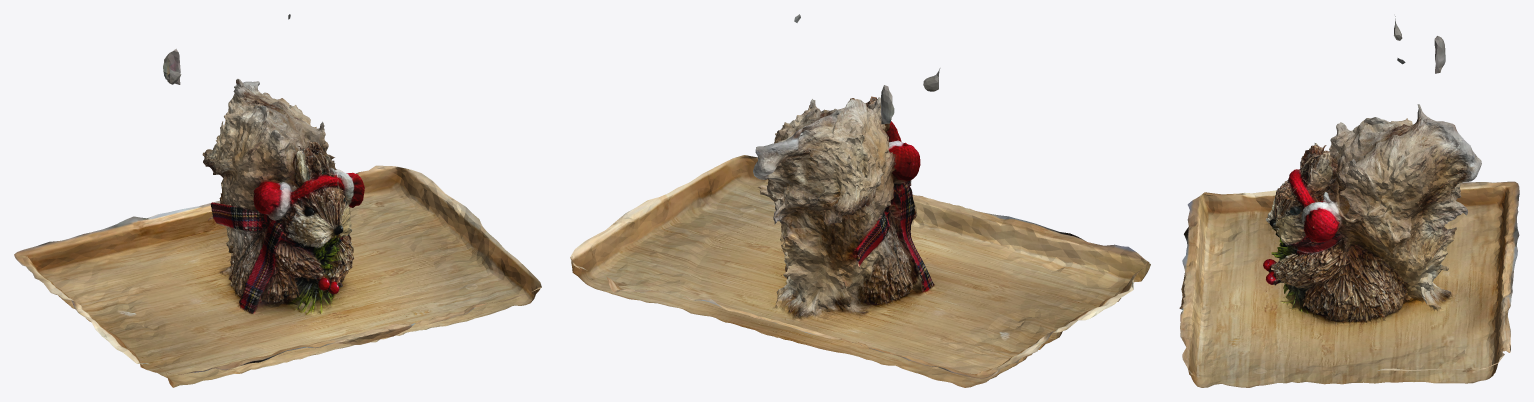
The picture shows the model from 3 angles, left to right: view 1: azimuth 30°, elevation 25°; view 2: azimuth 150°, elevation 25°; view 3: azimuth 270°, elevation 25°; orthographic projection. The views are drawn at different scales.
Size of the model in its own units: 0.2883 by 0.182 by 0.2111.
Materials: 1 (1 with a texture image).
